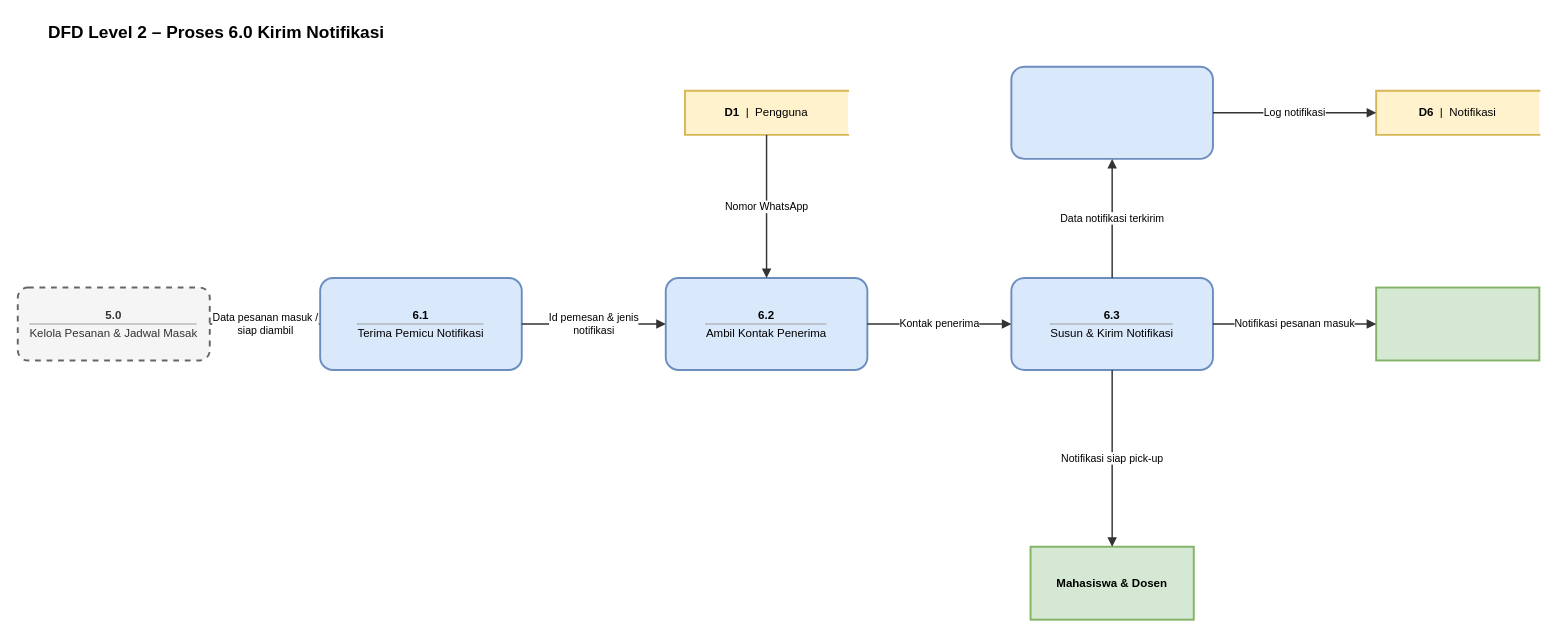
The diagram is 1556 pixels wide and 636 high, and some of its shapes have lost their labels. Each missing label, with the box of its shape:
6.4 Catat Log Notifikasi: (1010, 65, 1213, 159)
Pengelola Stand: (1375, 286, 1540, 361)
